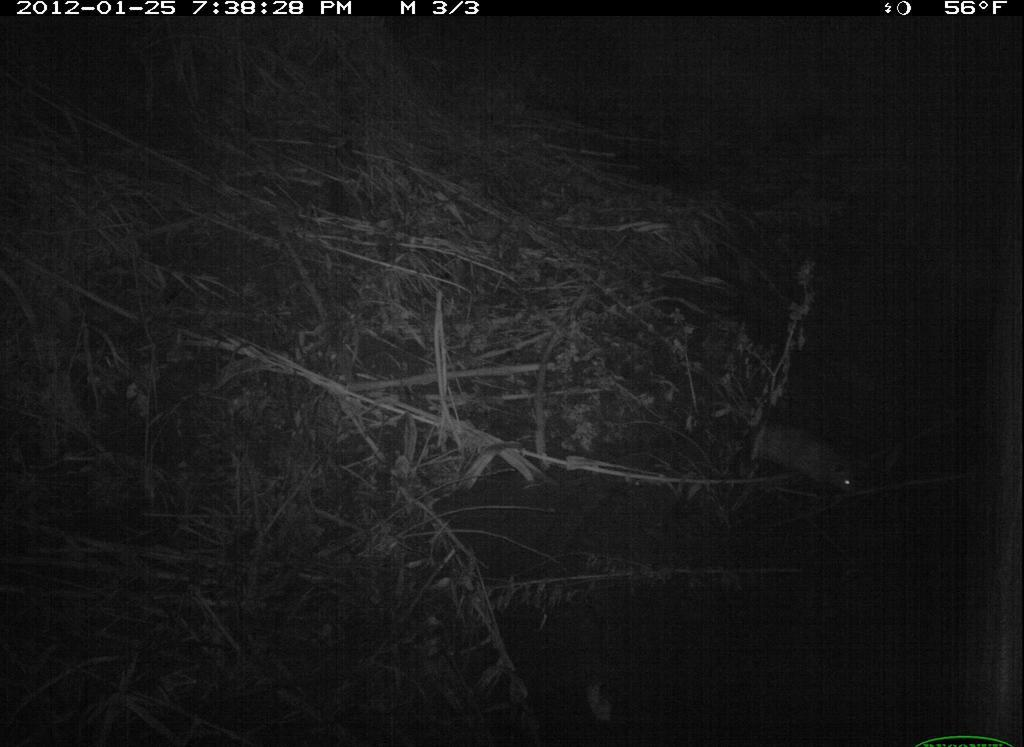opossum: (715, 401, 876, 510)
